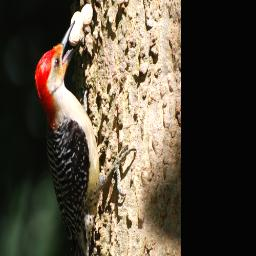Woodpecker: (35, 21, 140, 256)
